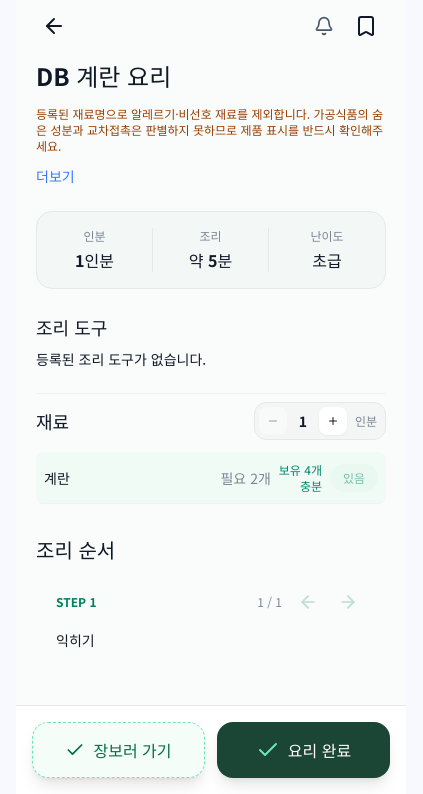
Test case: opens a DB UUID detail URL after reload and calculates portions
Check: the heading "DB 계란 요리" is shown, box [36,58,171,93]
Click the button named "인분 늘리기" at (333, 421), box [319,407,347,435]
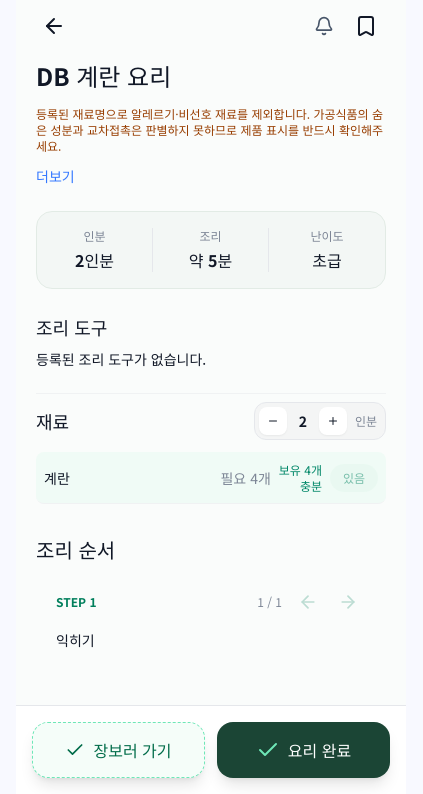
Click the button named "인분 늘리기" at (333, 421), box [319,407,347,435]
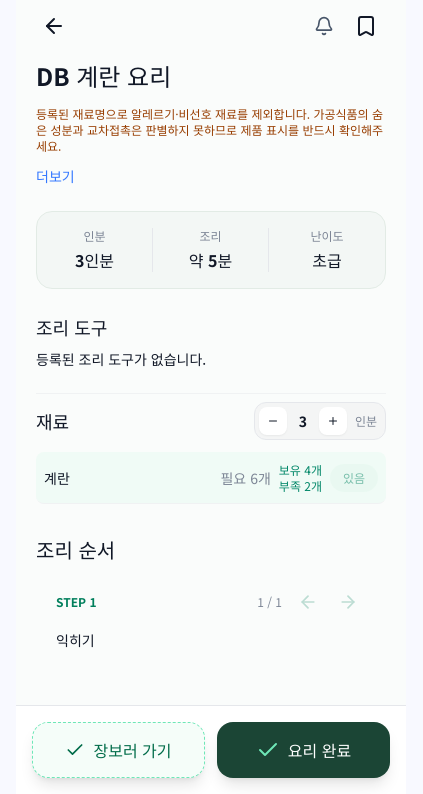
Check: the text "부족 2개" is shown, box [279,476,322,494]
